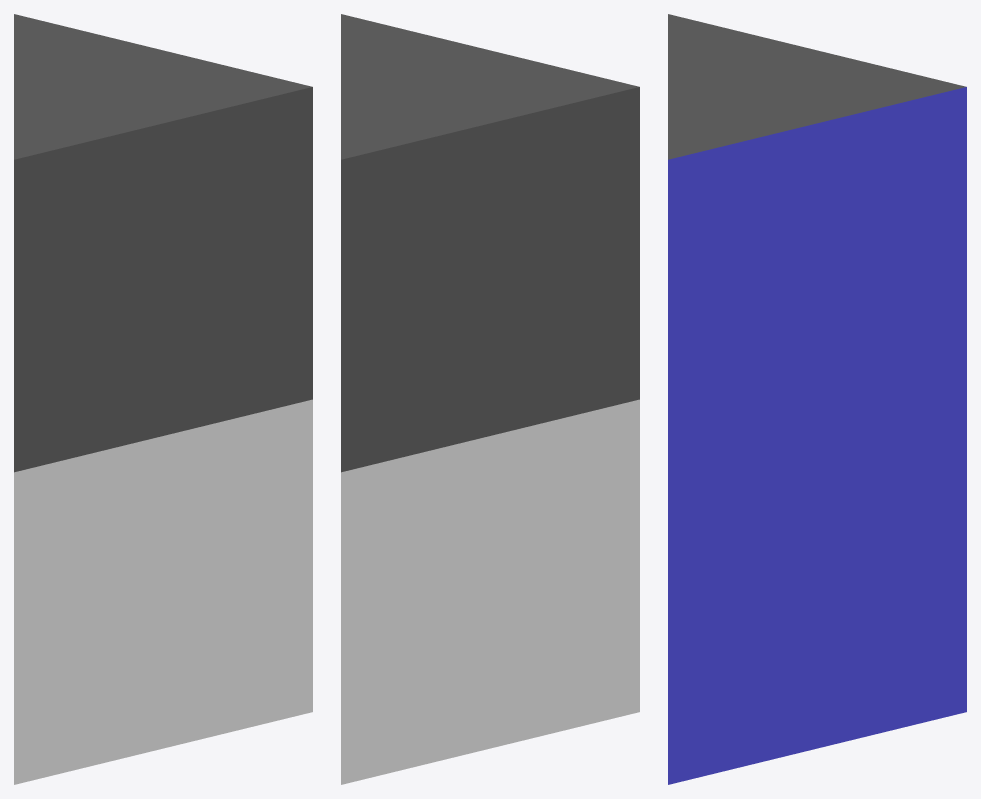
File: TriangularPrism.fbx
3 views of the same model, side by side, from view 1: azimuth 30°, elevation 25°; view 2: azimuth 150°, elevation 25°; view 3: azimuth 270°, elevation 25° (orthographic).
Parts seen in each view (by area): view 1: TriangularPrism; view 2: TriangularPrism; view 3: TriangularPrism.
Boxes of the visible parts, bbox=[...] form: TriangularPrism: bbox=[14, 14, 312, 784]; TriangularPrism: bbox=[341, 14, 639, 784]; TriangularPrism: bbox=[668, 14, 966, 784].
Size of the model in its own units: 285 by 570 by 247.
